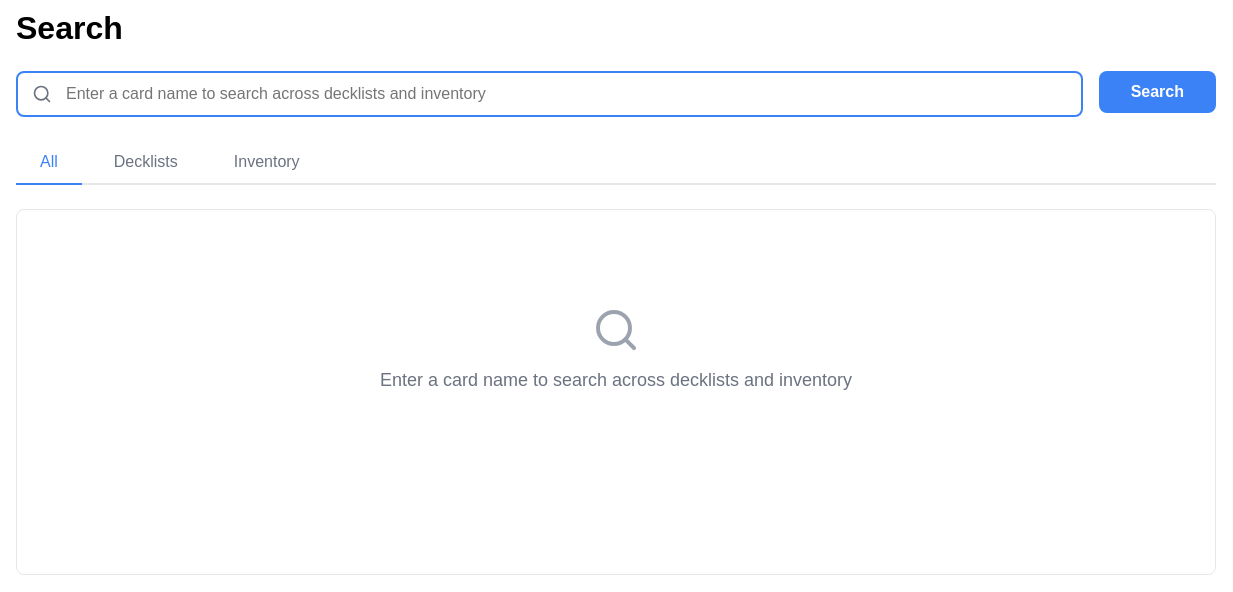
Empty States › should show empty state message when no results are found
Step 1. Type "NonexistentCard" into the field with placeholder "Enter a card name to search across decklists and inventory" → (549, 94), box [16,71,1083,117]
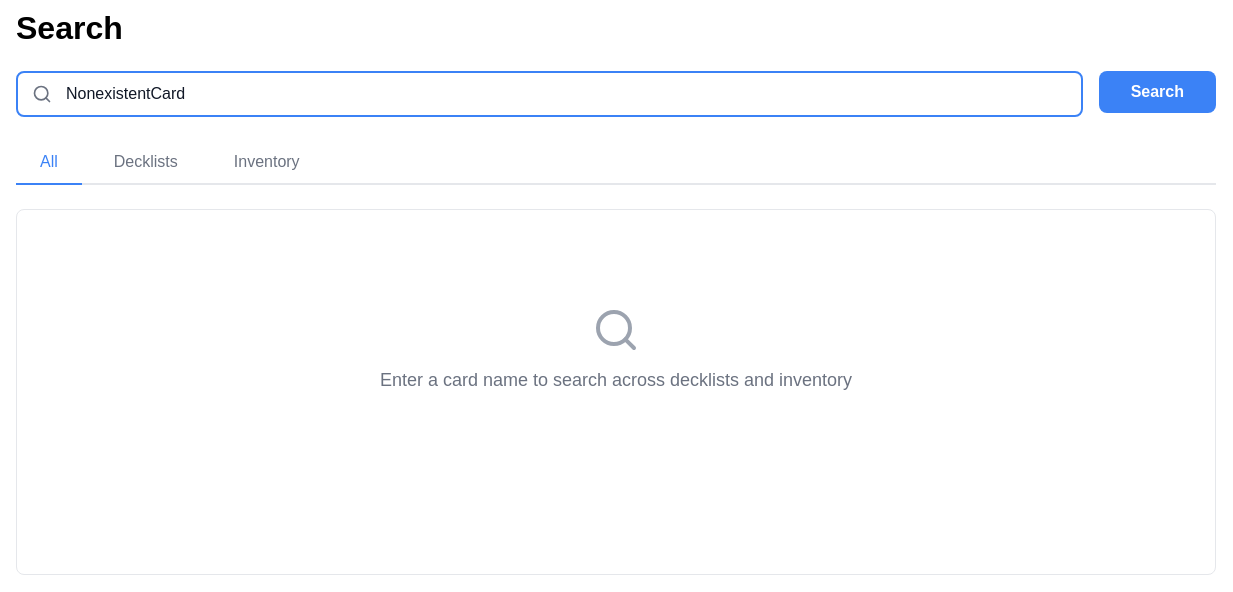
Step 2. Click the button "Search" → (1157, 92), box [1099,71,1216,113]
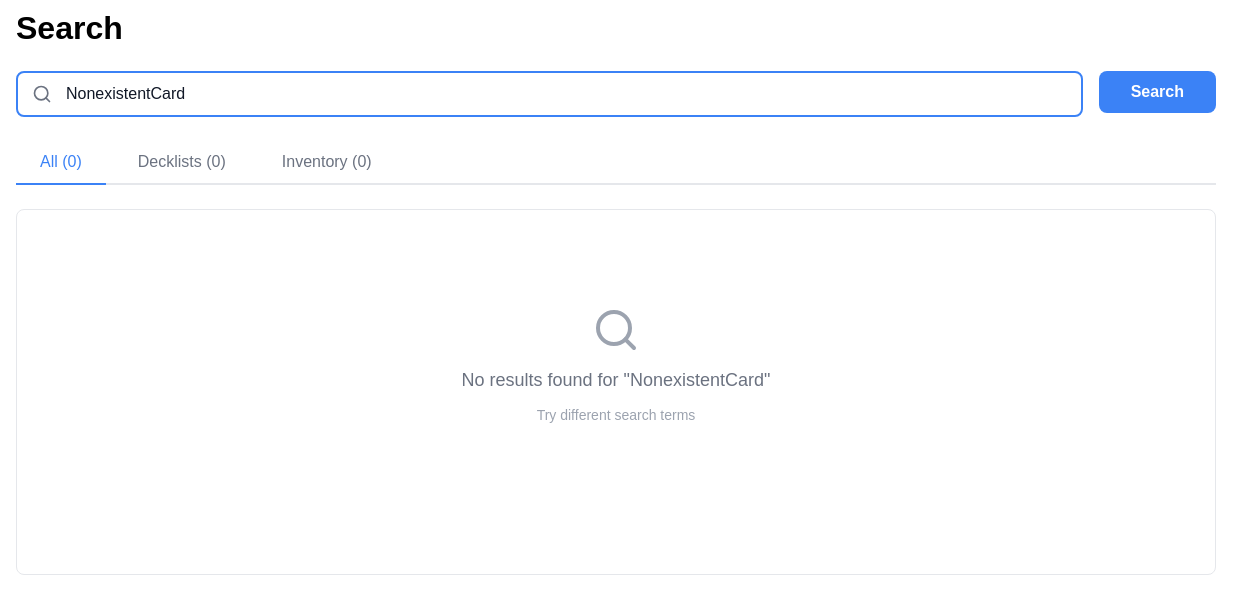
Expected: the text "No results found for \"NonexistentCard\"" is shown, [462,370,770,391]
